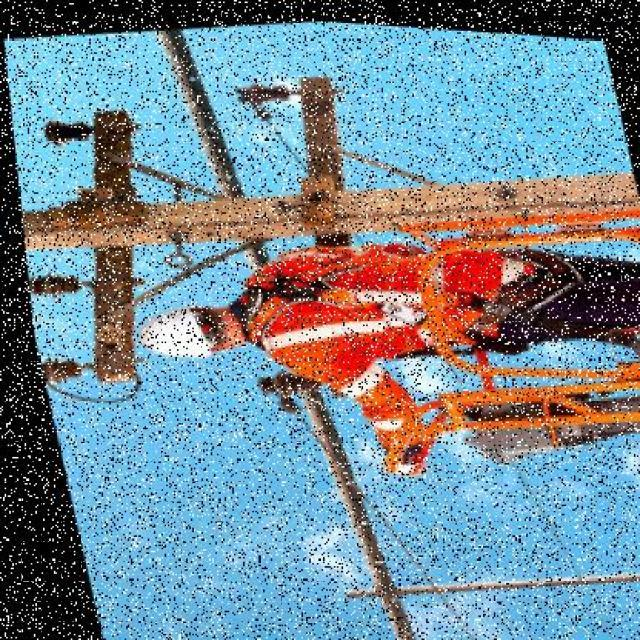helmet: (119, 292, 222, 372)
vest: (216, 209, 520, 389)
